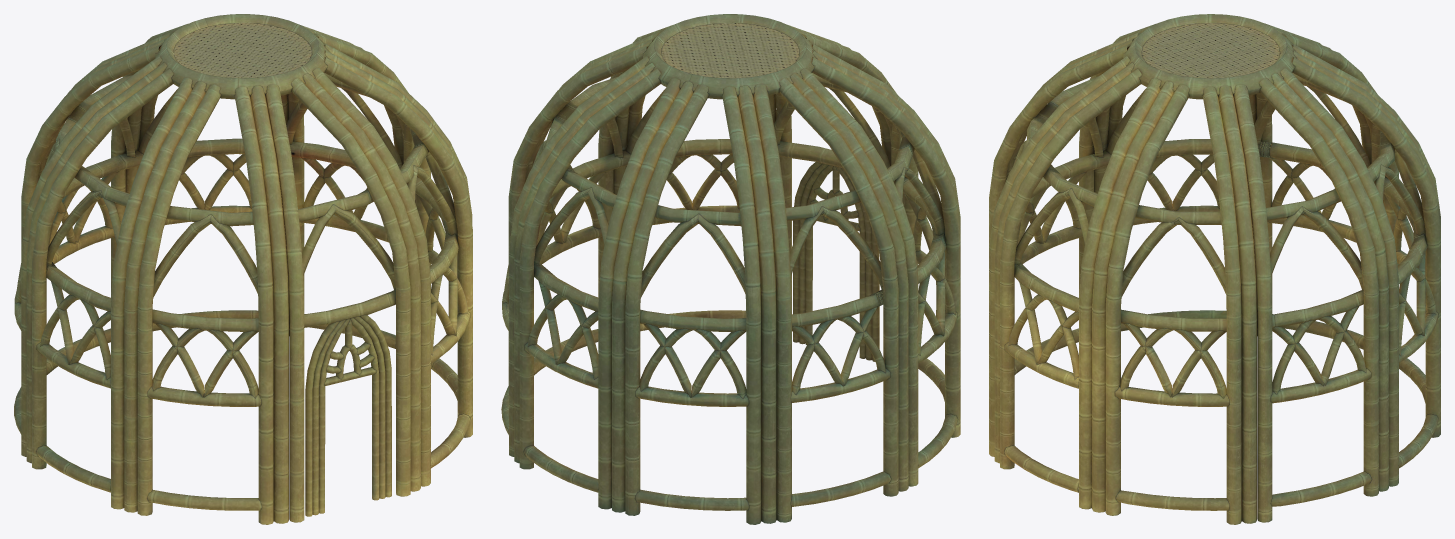
The model's file is Bamboo Frame.glb.
The picture shows the model from 3 angles, left to right: view 1: azimuth 30°, elevation 25°; view 2: azimuth 150°, elevation 25°; view 3: azimuth 270°, elevation 25°; orthographic projection.
Parts seen in each view (by area): view 1: Bamboo Frame_Export; view 2: Bamboo Frame_Export; view 3: Bamboo Frame_Export.
Part boxes in pixels (<box>): Bamboo Frame_Export: <box>14,14,472,524</box>; Bamboo Frame_Export: <box>501,14,960,524</box>; Bamboo Frame_Export: <box>989,14,1440,524</box>.
Bounding box in the file's own units: 23.72 × 21.8 × 23.38.
1 material, 1 textured.
